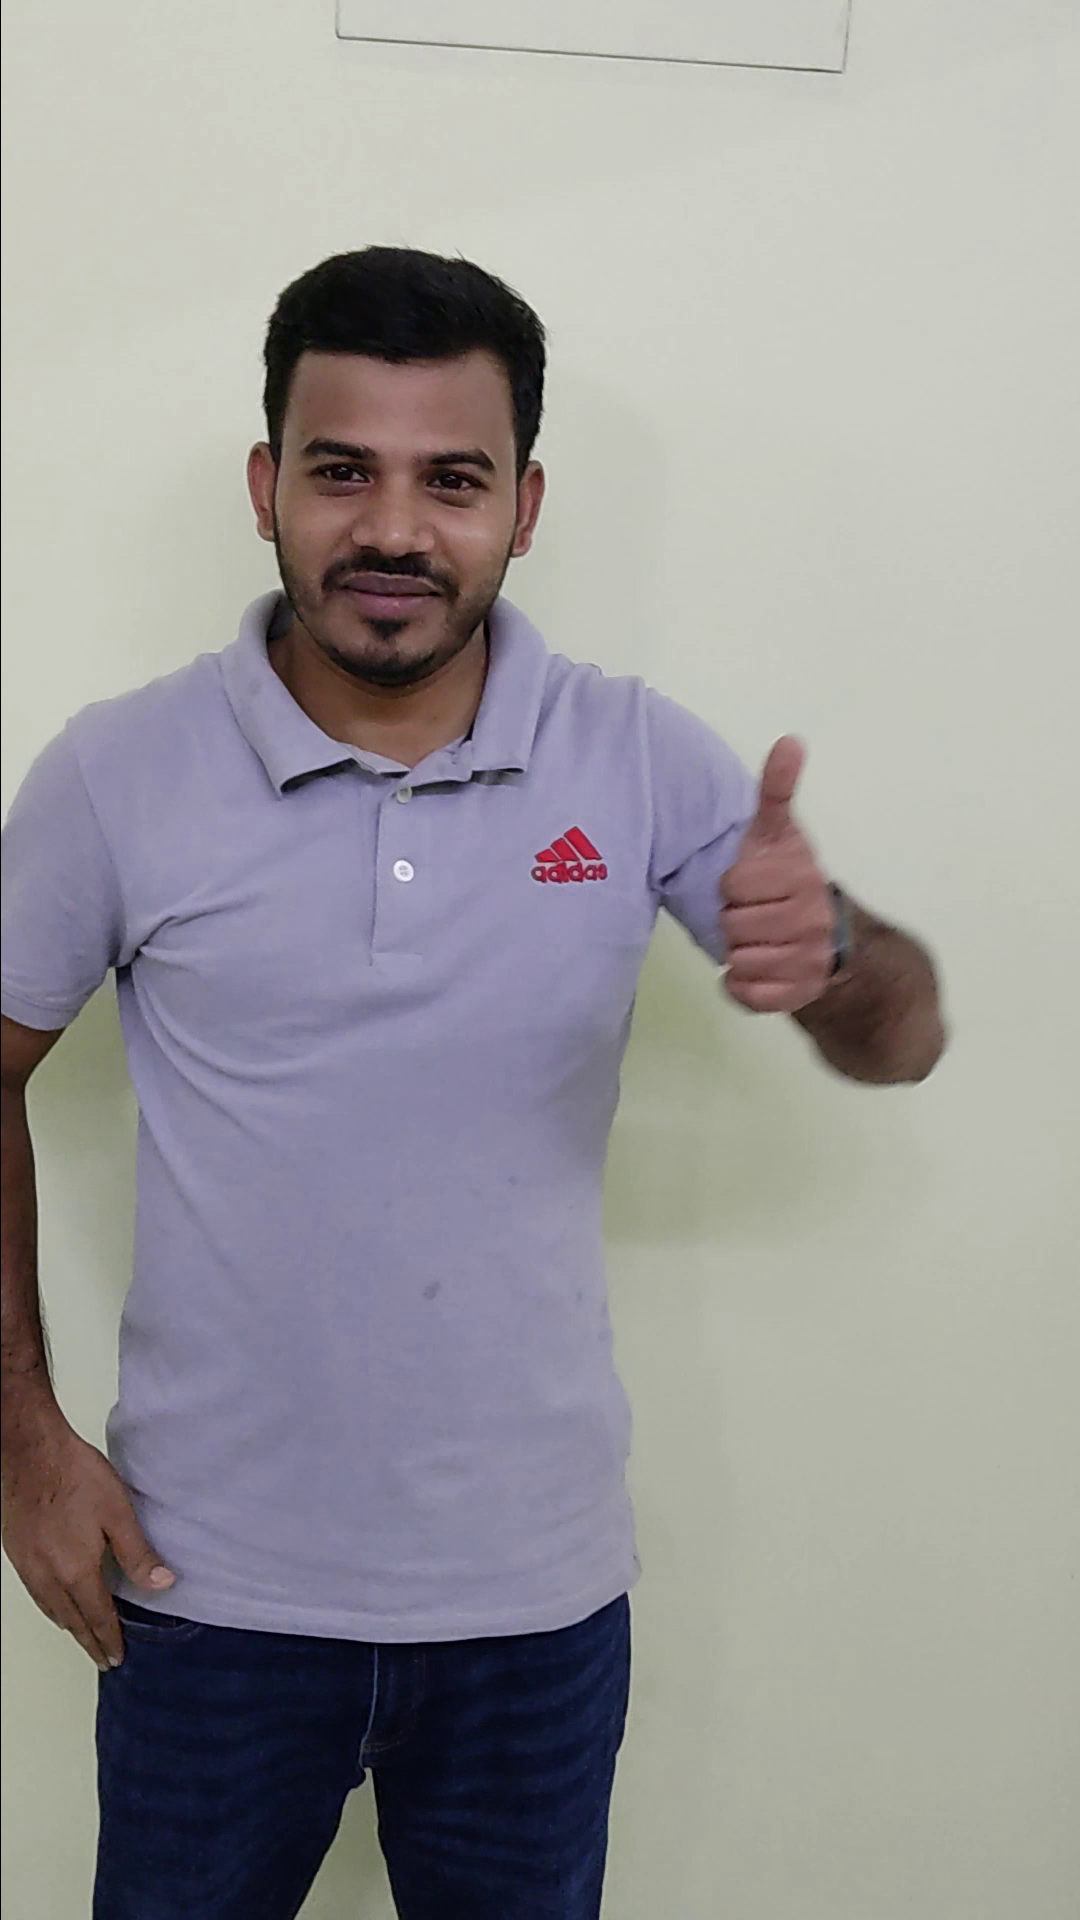Like: (684, 715, 876, 1021)
None: (3, 1395, 195, 1679)
